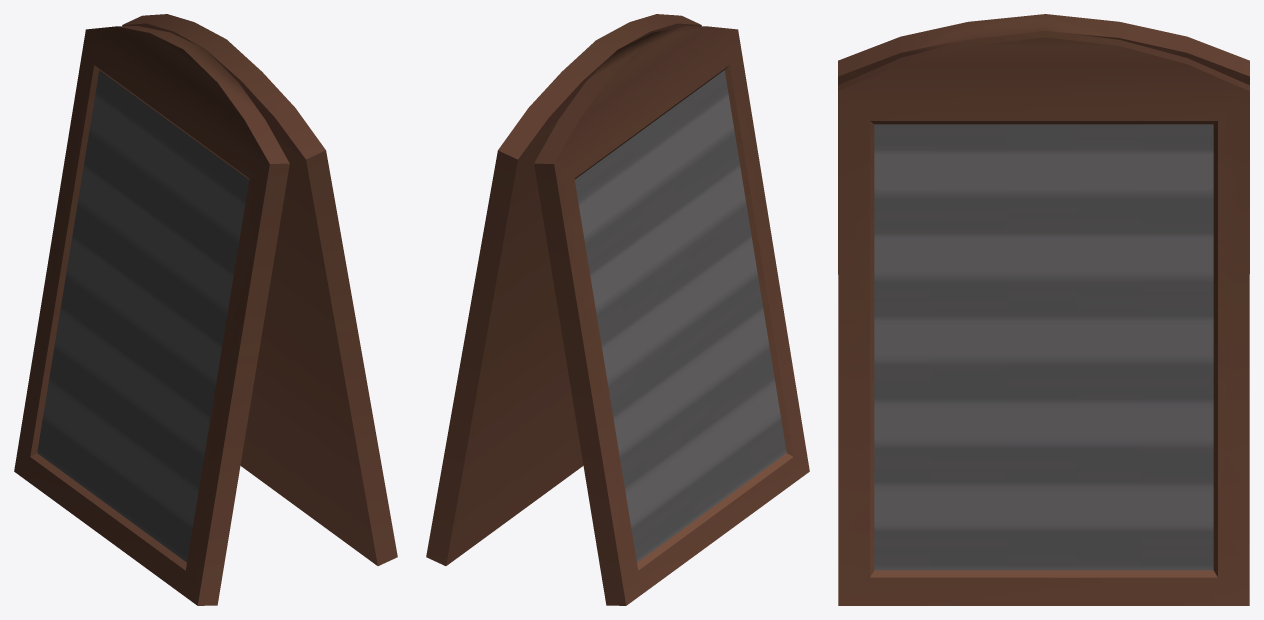
The model's file is CafeBoard_C.fbx.
3 renders of one model, left to right at view 1: azimuth 30°, elevation 25°; view 2: azimuth 150°, elevation 25°; view 3: azimuth 270°, elevation 25°, orthographic. The views are drawn at different scales.
Parts seen in each view (by area): view 1: CafeBoard_C; view 2: CafeBoard_C; view 3: CafeBoard_C.
Boxes of the visible parts, x1,y1,x2,y2 form: CafeBoard_C: (14,14,397,605); CafeBoard_C: (426,14,809,605); CafeBoard_C: (838,14,1249,605).
Size of the model in its own units: 31.1 by 70.34 by 49.5.
